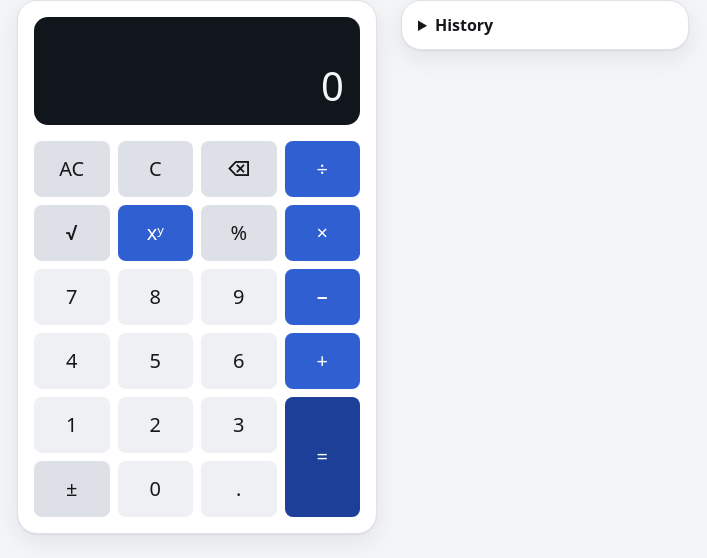
Test: UC-UI-01 extensions › E6/E7: a problem without a request id shows the fixed copy in the one alert region
The width and height of the screenshot is (707, 558).
Click the button "1".
click(72, 425)  # box [34,397,110,453]
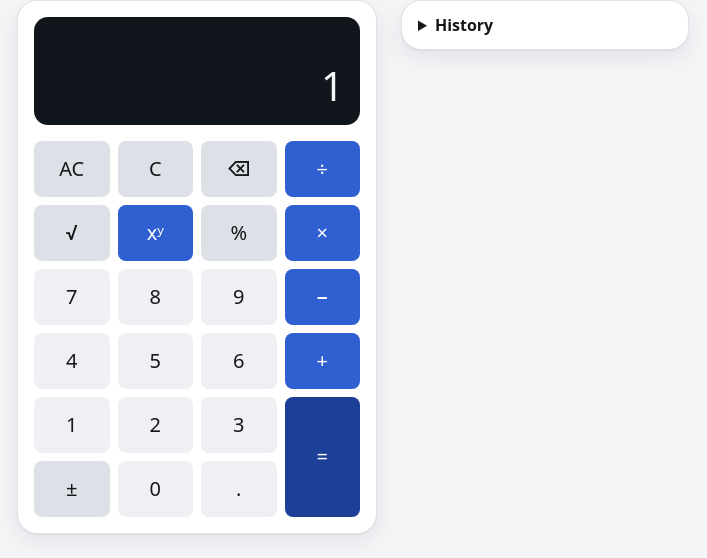
Click the button named "divide".
click(322, 169)  # box [284,141,360,197]
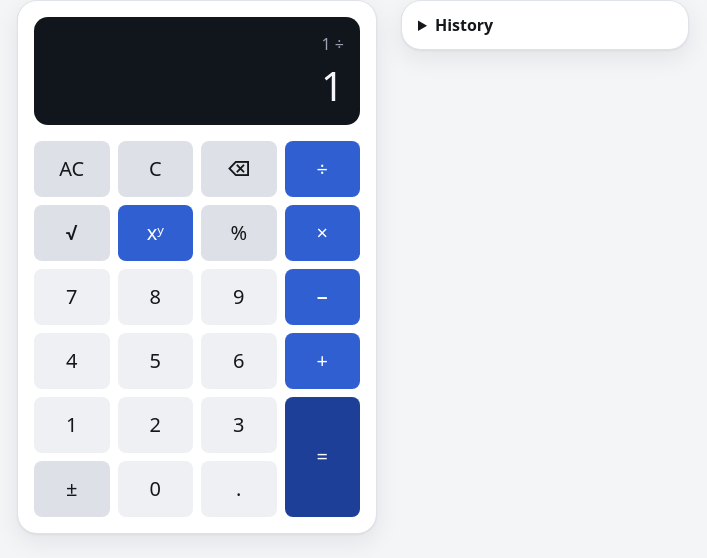
Click the button "0".
click(155, 489)  # box [118,461,193,517]
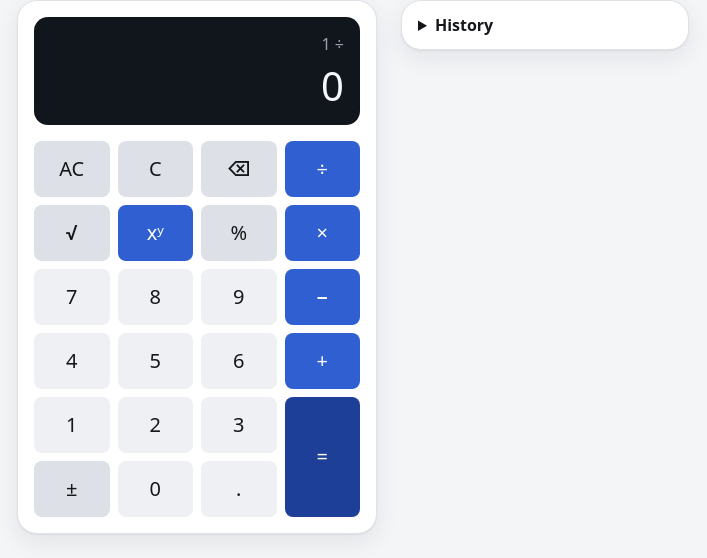
Click the button named "equals".
click(322, 457)  # box [284,397,360,517]
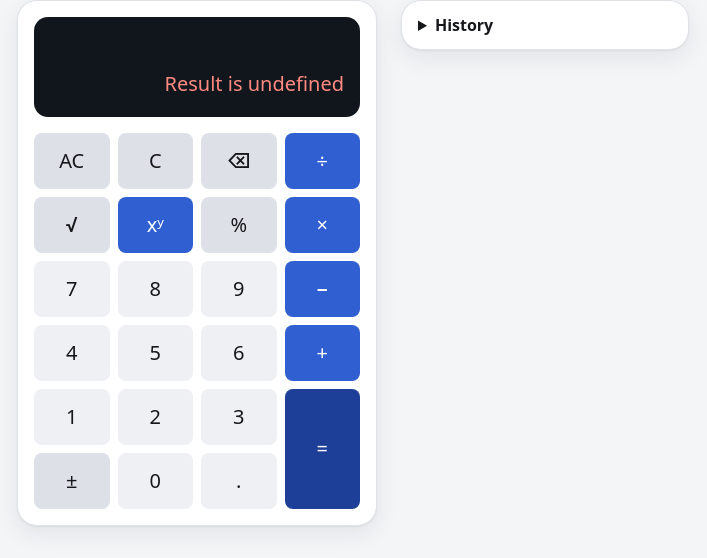
expect the message does not show "Ref": met, box [164,70,344,97]
expect the number of messages is 1: met, box [164,70,344,97]
expect the message reads "Result is undefined": met, box [164,70,344,97]
